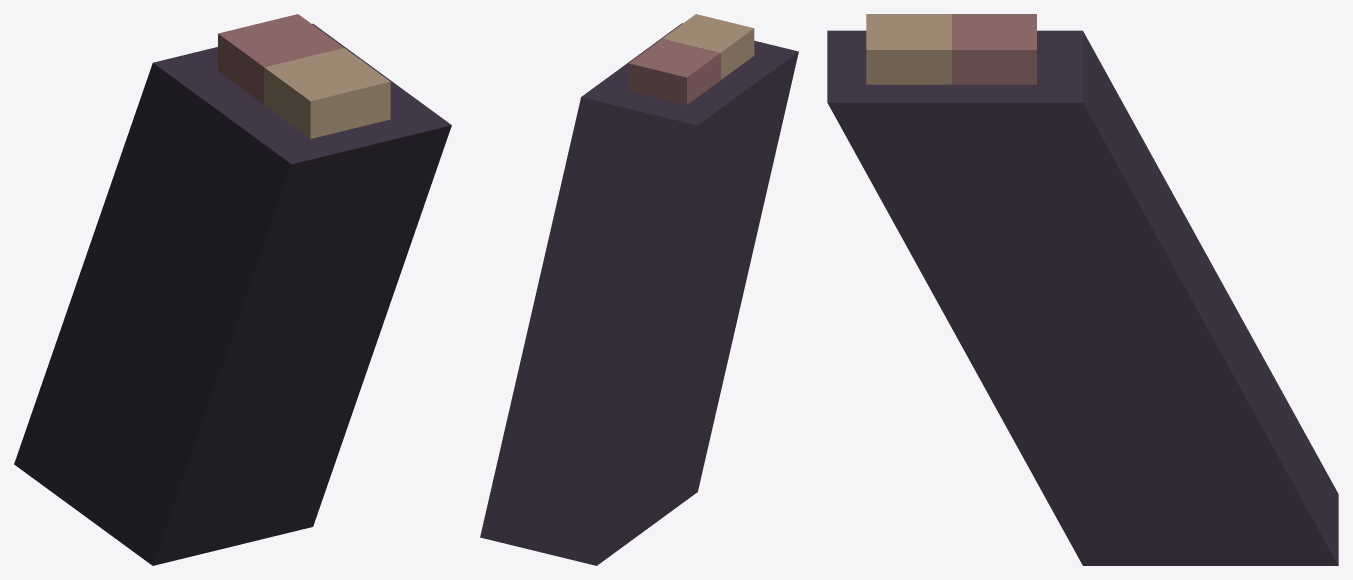
The model's file is glock magazine.fbx.
3 views of the same model, side by side, from view 1: azimuth 30°, elevation 25°; view 2: azimuth 150°, elevation 25°; view 3: azimuth 270°, elevation 25° (orthographic). The views are drawn at different scales.
Parts seen in each view (by area): view 1: glock_magazine; view 2: glock_magazine; view 3: glock_magazine.
Boxes of the visible parts, x1,y1,x2,y2 form: glock_magazine: (14,14,451,565); glock_magazine: (480,14,798,565); glock_magazine: (827,14,1338,565).
Size of the model in its own units: 6.25 by 20.16 by 18.75.
Materials: 2 (2 with a texture image).
